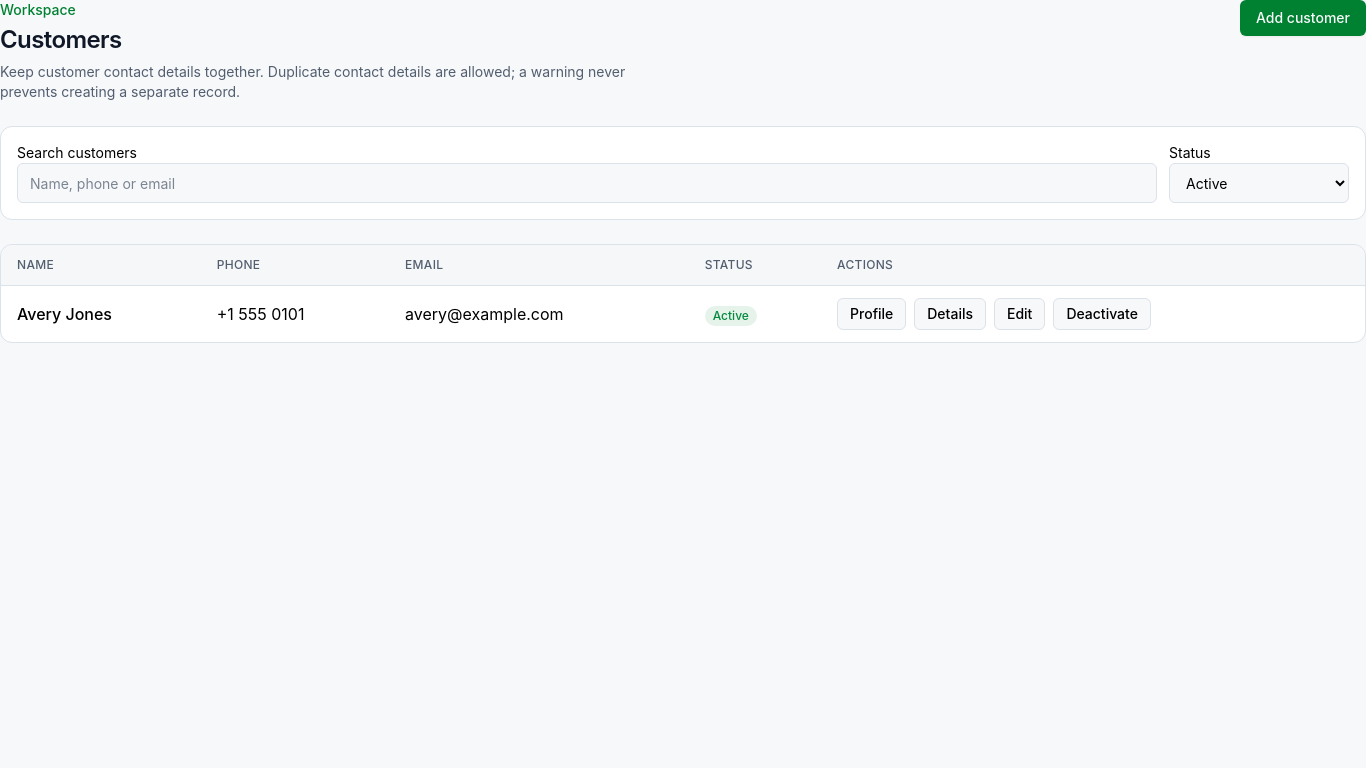
Scenario: customer directory › requires a name and validates database-compatible maximum lengths
The width and height of the screenshot is (1366, 768).
Click the button "Add customer" at [1303, 18], box x1=1240 y1=0 x2=1365 y2=36
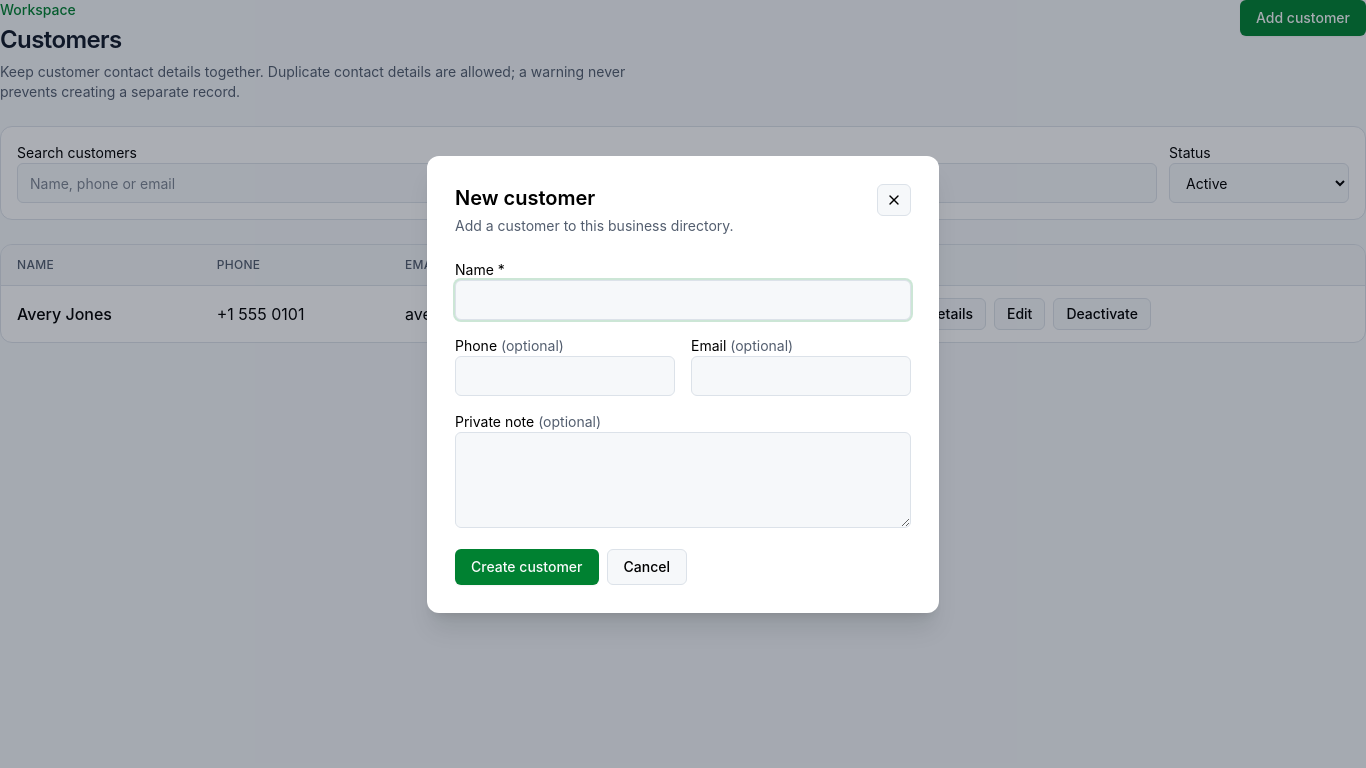
Click the button "Create customer" at [527, 566], box x1=455 y1=548 x2=598 y2=584
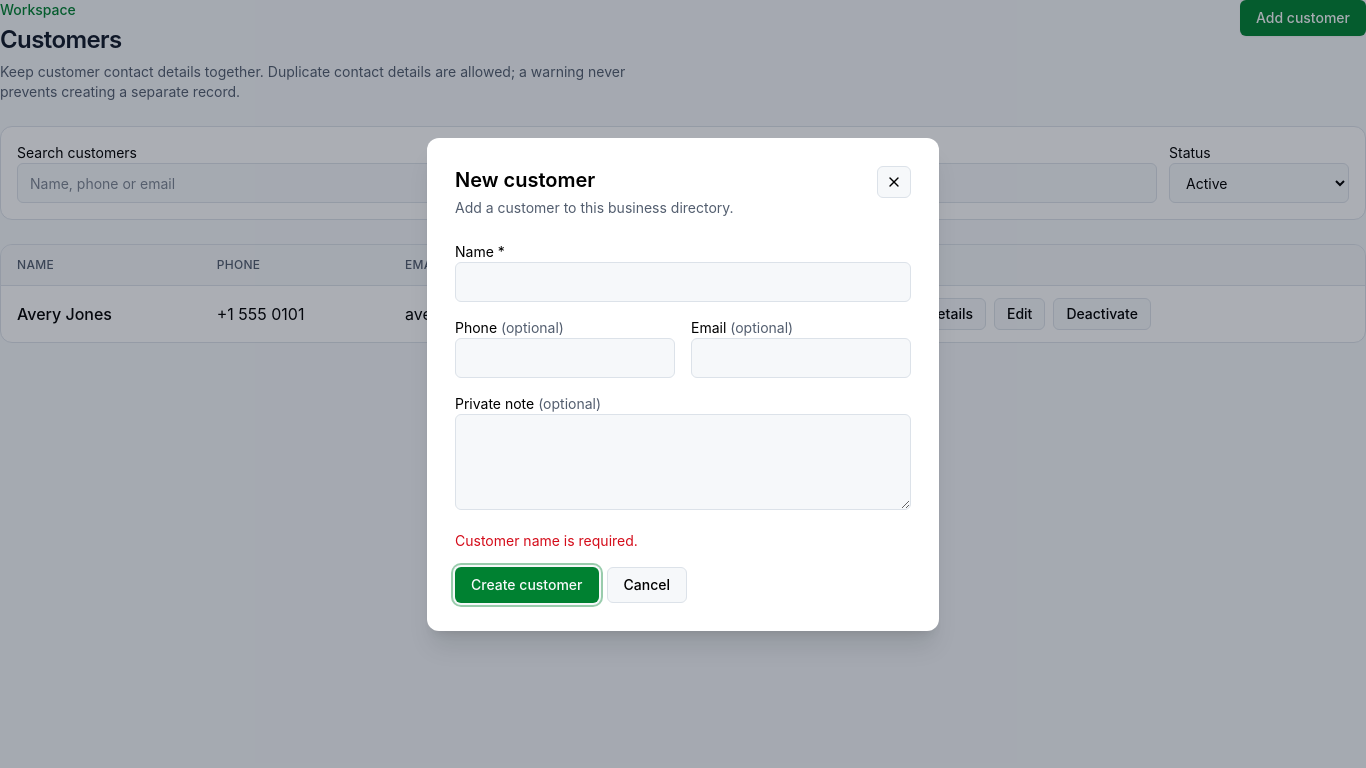
expect the message shows "name is required": met, box x1=455 y1=532 x2=638 y2=548
